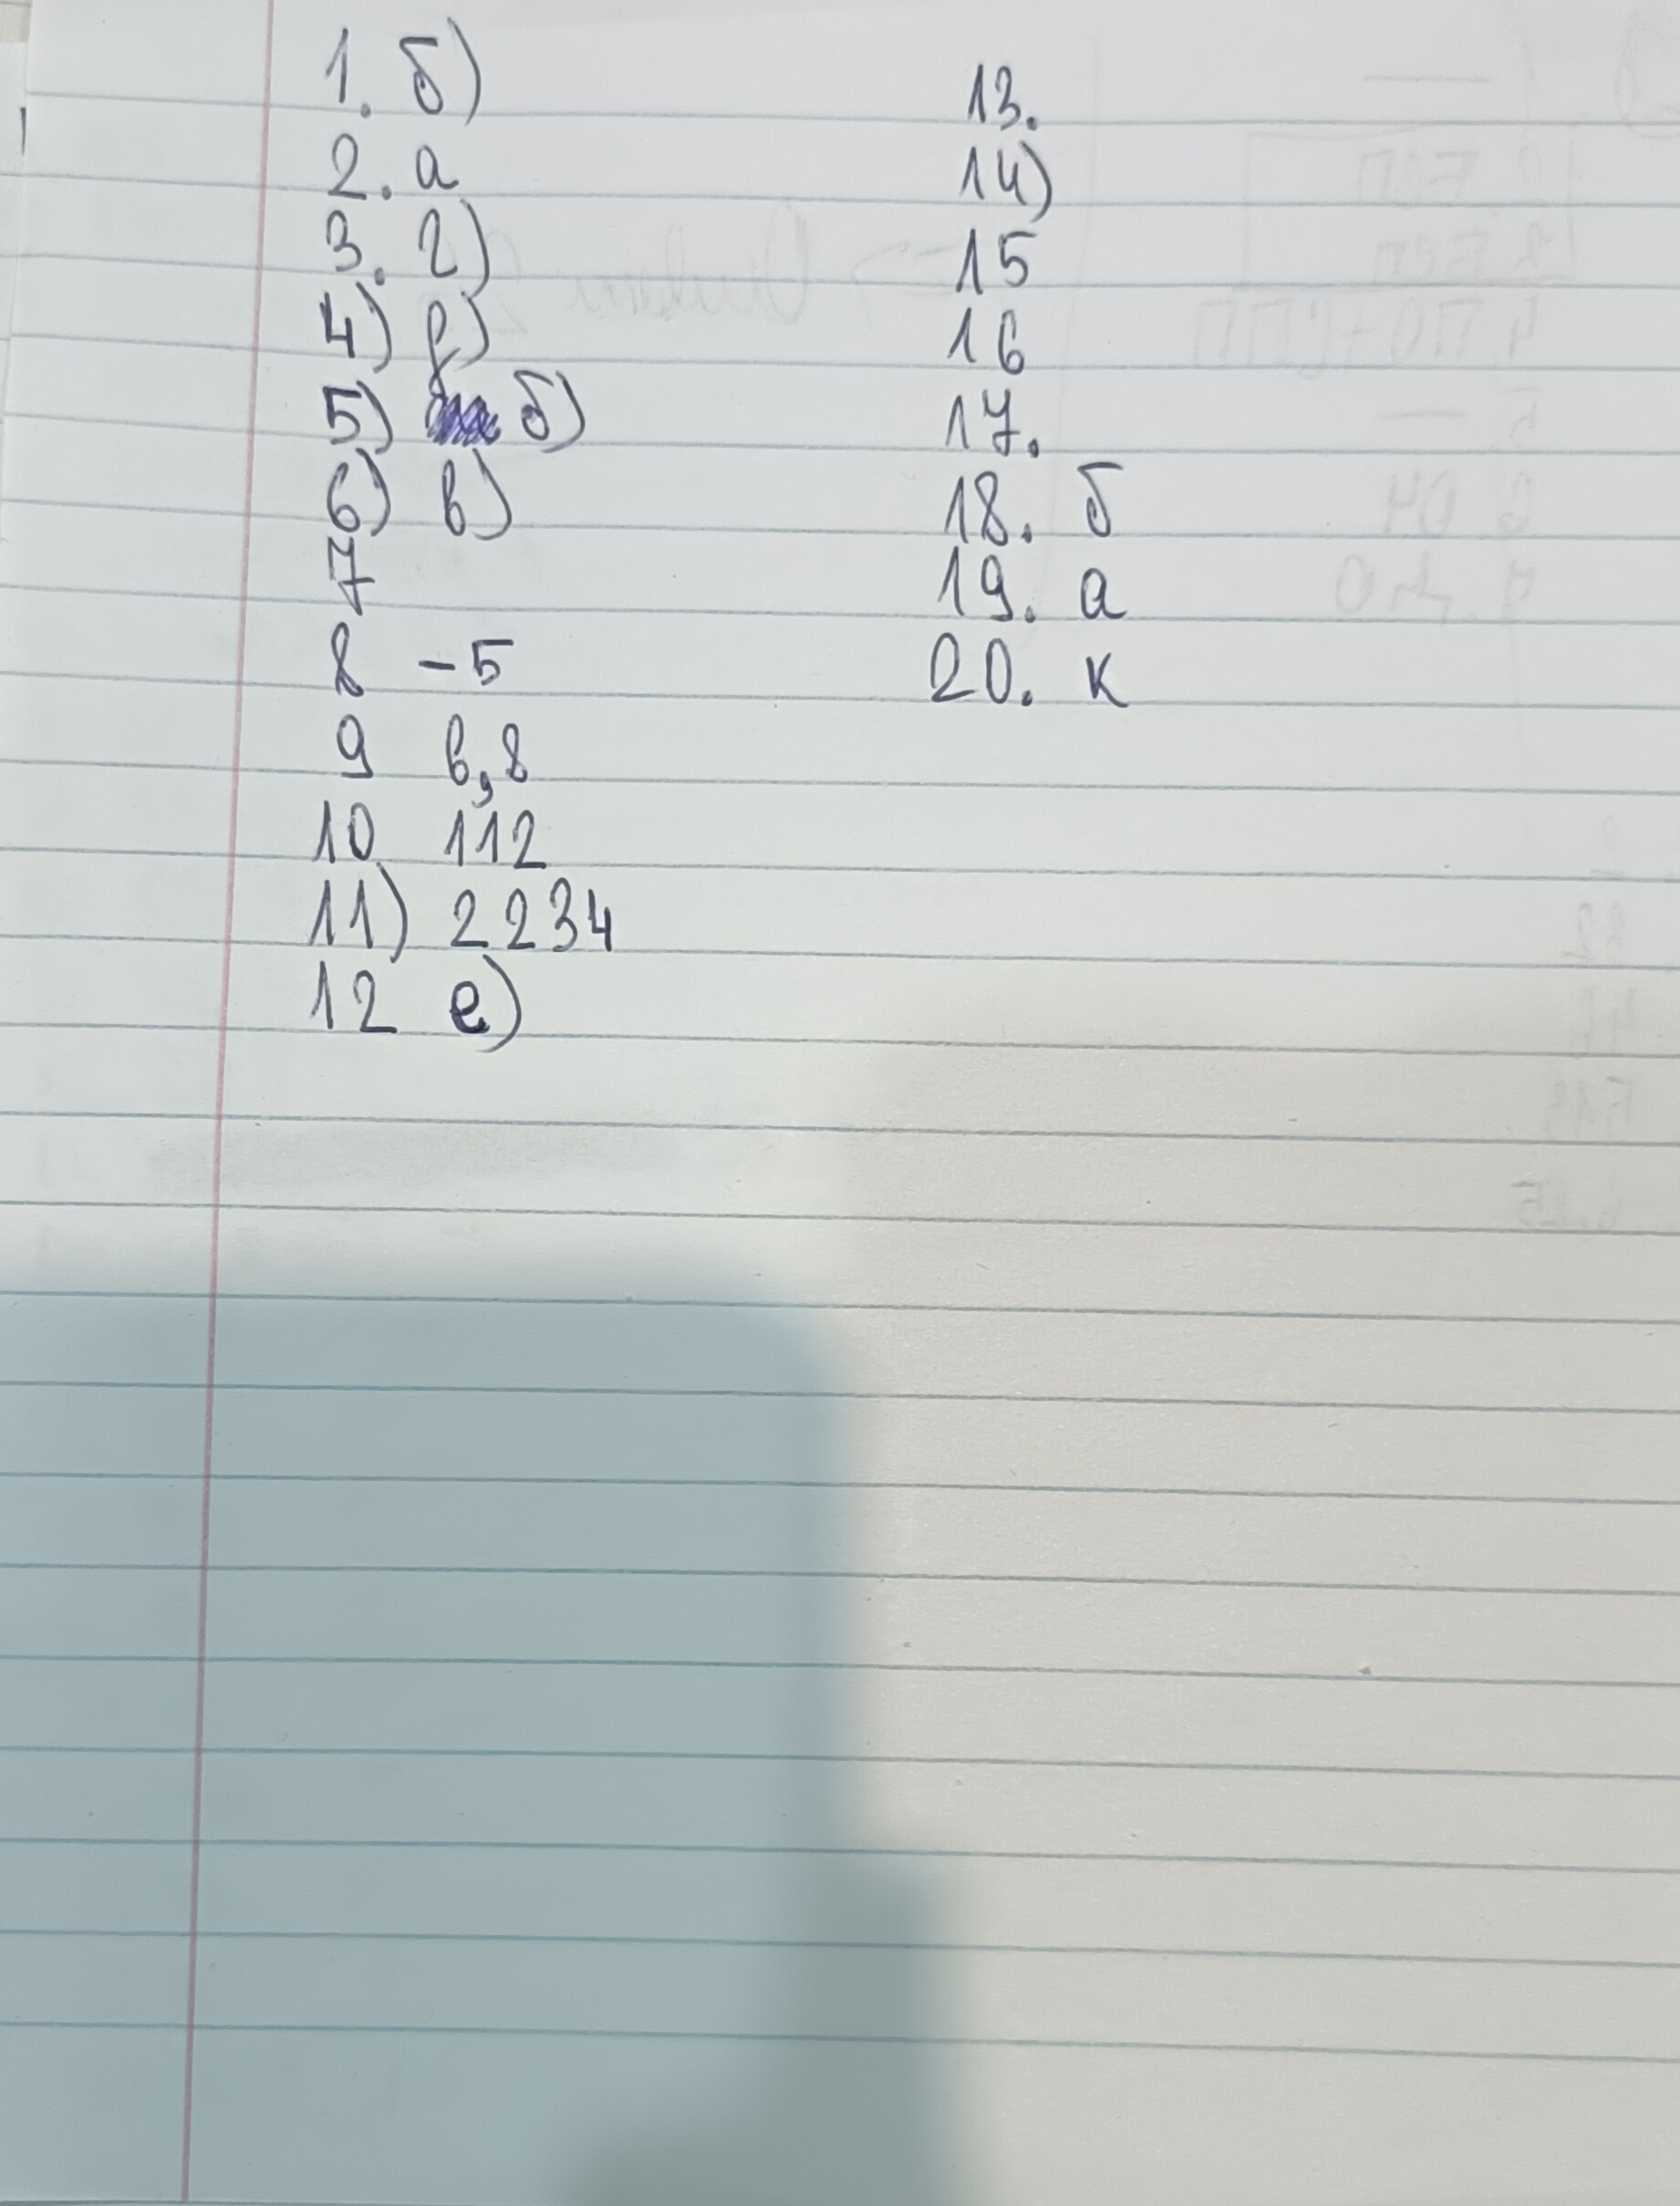text: (288, 859, 619, 967), (312, 364, 586, 461), (300, 949, 529, 1061), (321, 701, 549, 810), (300, 792, 565, 879), (305, 441, 521, 547), (307, 282, 494, 401), (300, 16, 492, 127), (921, 625, 1140, 717), (934, 454, 1136, 551), (318, 196, 499, 304), (318, 614, 529, 702), (316, 531, 508, 625), (932, 544, 1136, 630), (953, 138, 1147, 224), (307, 124, 482, 206), (960, 58, 1142, 138), (949, 224, 1135, 300), (942, 304, 1128, 378), (941, 386, 1126, 461)
